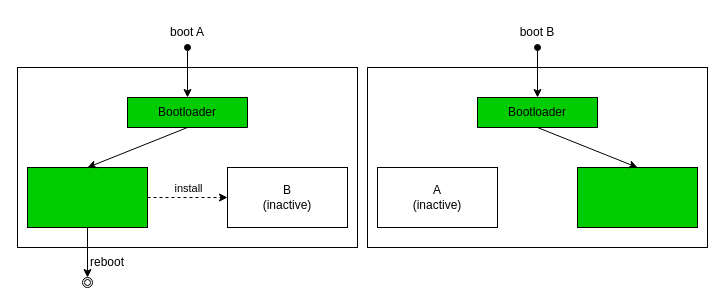
This 725x305 diagram has some shape labels left out. Here are the shapes that lost their labels. From the top down, the box of each, then its label:
(26, 166, 148, 228): A (active)
(576, 166, 698, 228): B (active)
